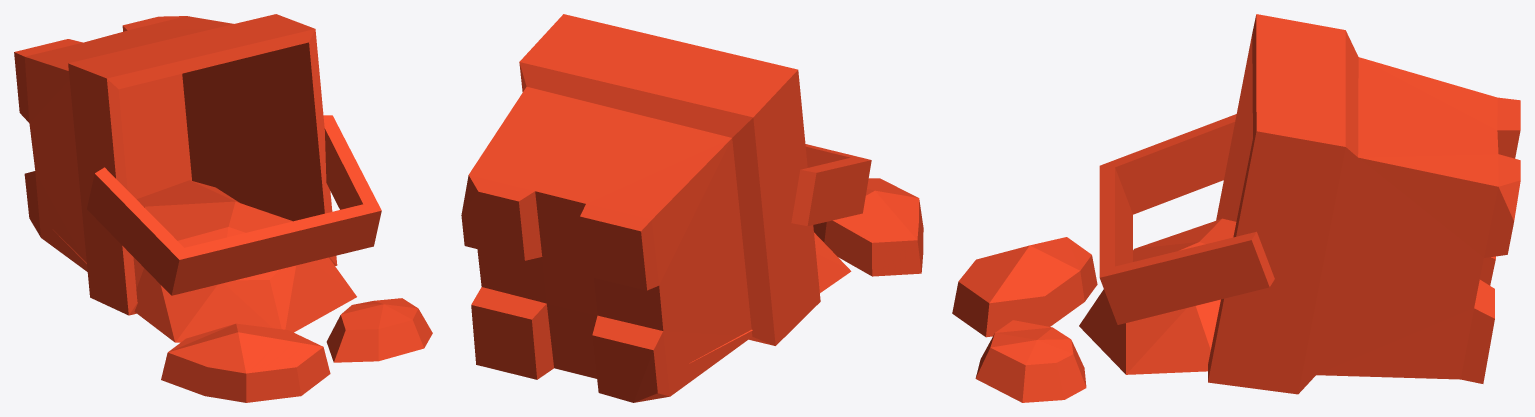
Rendered from SM_Form_Toy_C_City.fbx.
The picture shows the model from 3 angles, left to right: view 1: azimuth 30°, elevation 25°; view 2: azimuth 150°, elevation 25°; view 3: azimuth 270°, elevation 25°; orthographic projection. The views are drawn at different scales.
Visible parts, largest first — view 1: SM_Form_Toy_C_City; view 2: SM_Form_Toy_C_City; view 3: SM_Form_Toy_C_City.
Part boxes in pixels (<box>): SM_Form_Toy_C_City: <box>14,14,432,402</box>; SM_Form_Toy_C_City: <box>461,14,923,402</box>; SM_Form_Toy_C_City: <box>952,14,1520,402</box>.
Size of the model in its own units: 0.2262 by 0.2057 by 0.3898.
